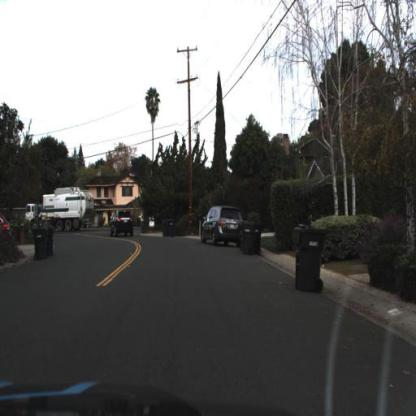car: (197, 194, 249, 254), (201, 207, 245, 243), (109, 209, 133, 239)
truck: (18, 181, 99, 235), (26, 187, 95, 233)
